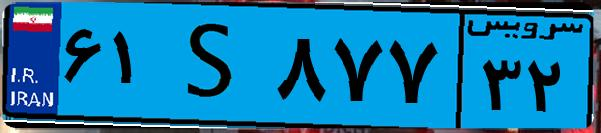1: (110, 28, 158, 98)
2: (525, 38, 570, 115)
3: (475, 38, 525, 113)
6: (57, 26, 110, 100)
7: (385, 28, 445, 110), (330, 28, 385, 110)
8: (270, 28, 330, 110)
S: (158, 12, 270, 120)
